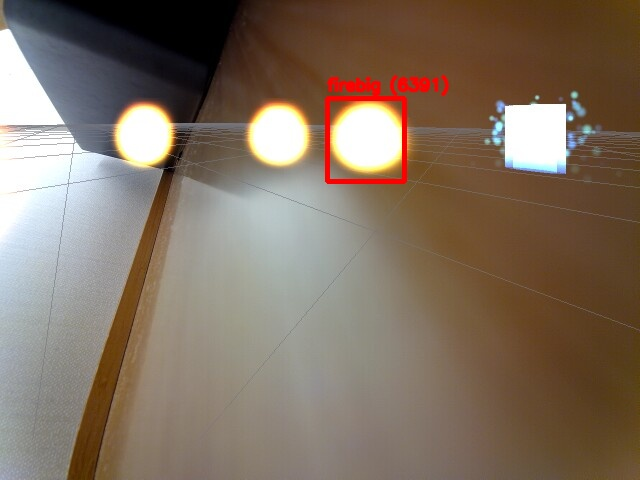firebig: (327, 98, 404, 181)
